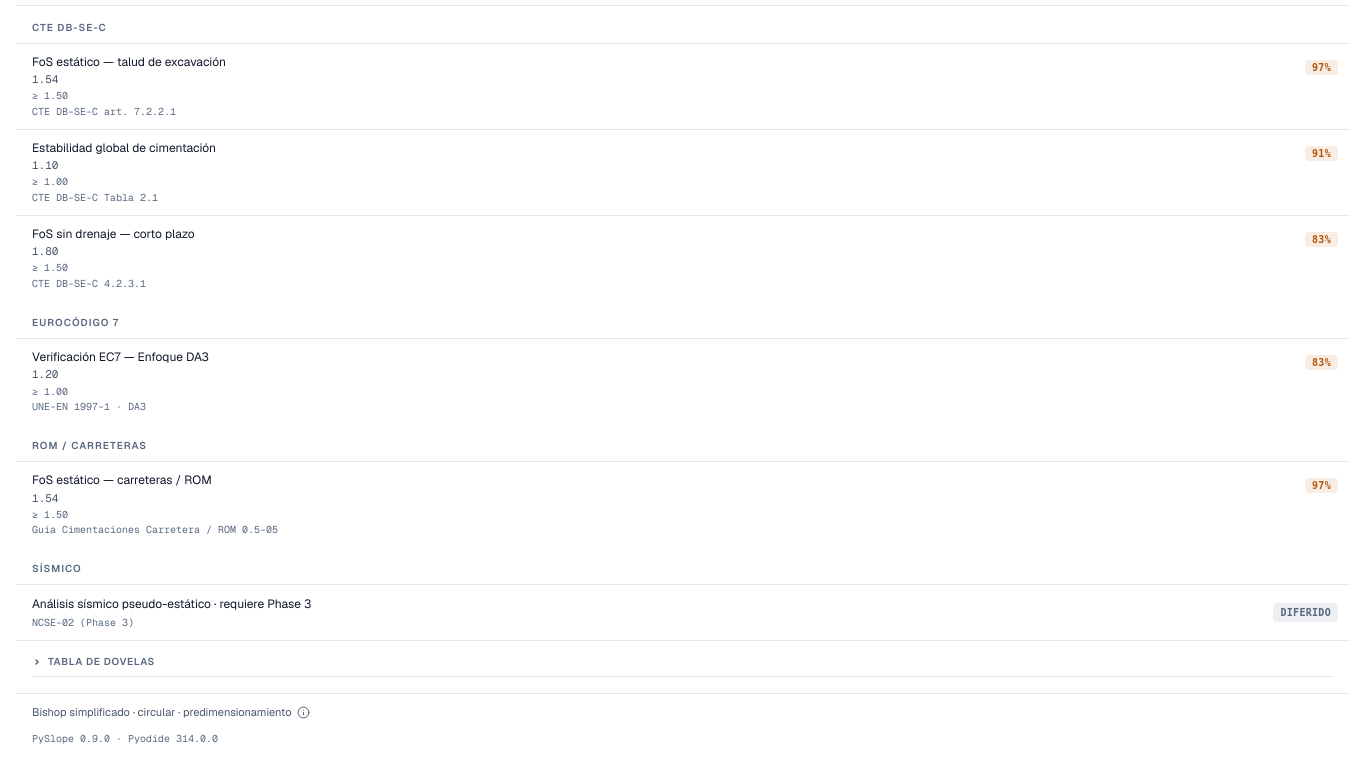
Test: SlopeResults — unidades técnico + header contextual › en técnico la tabla de dovelas convierte W (kN→Tn) y u (kPa→kg/cm²)
(page scrolled)
Click the button "Tabla de dovelas" at (102, 662), box [32,645,1334,677]
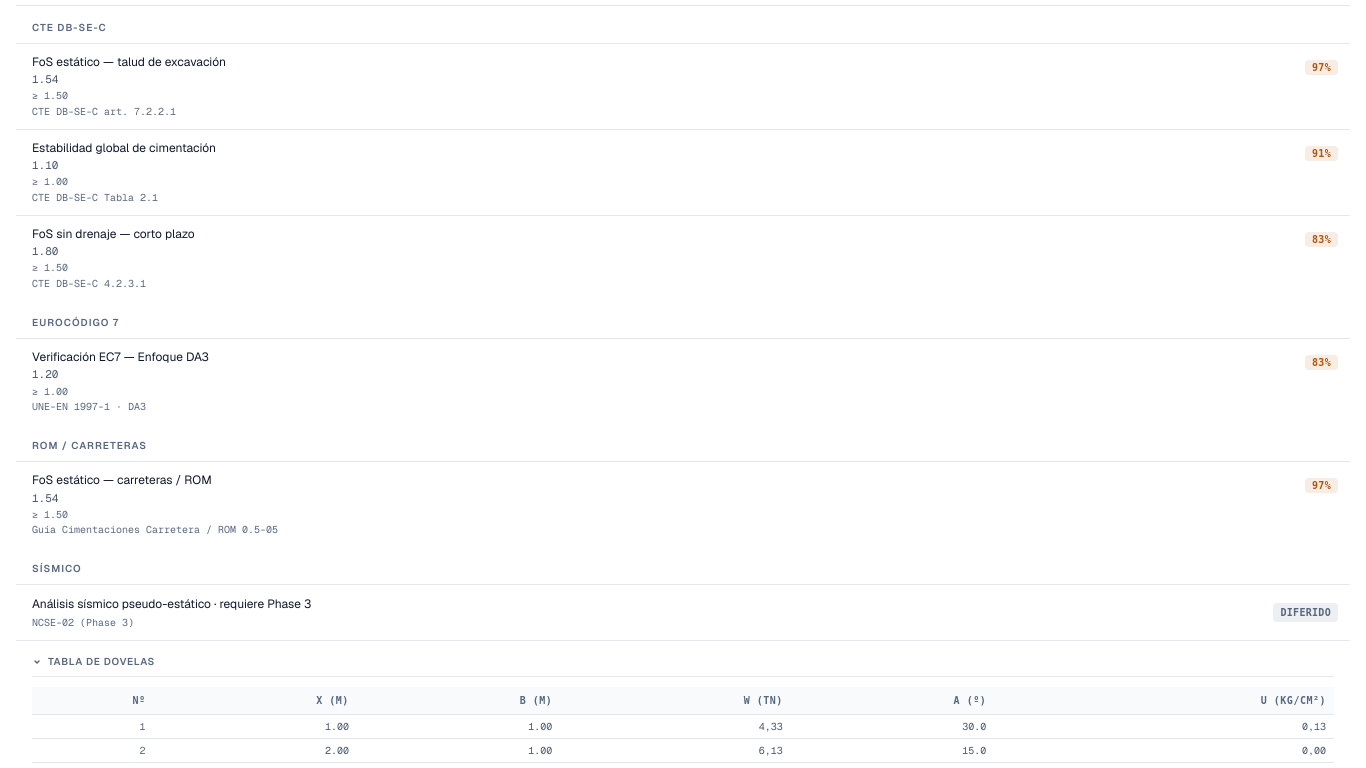
Expected: the column heading "W (Tn)" is shown, [560,687,791,715]
Expected: the column heading "u (kg/cm²)" is shown, [994,687,1334,715]
Expected: the cells read "1", "1.00", "1.00", "4,33", "30.0", "0,13", in this order, [32,715,154,739]; [154,715,357,739]; [357,715,560,739]; [560,715,791,739]; [791,715,994,739]; [994,715,1334,739]
